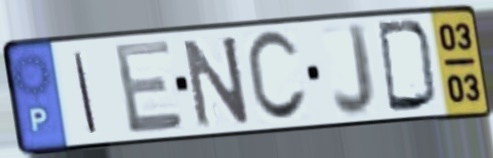C: (243, 27, 311, 126)
D: (374, 18, 440, 114)
E: (110, 36, 187, 138)
I: (71, 49, 100, 135)
J: (330, 20, 379, 120)
N: (180, 32, 254, 131)
